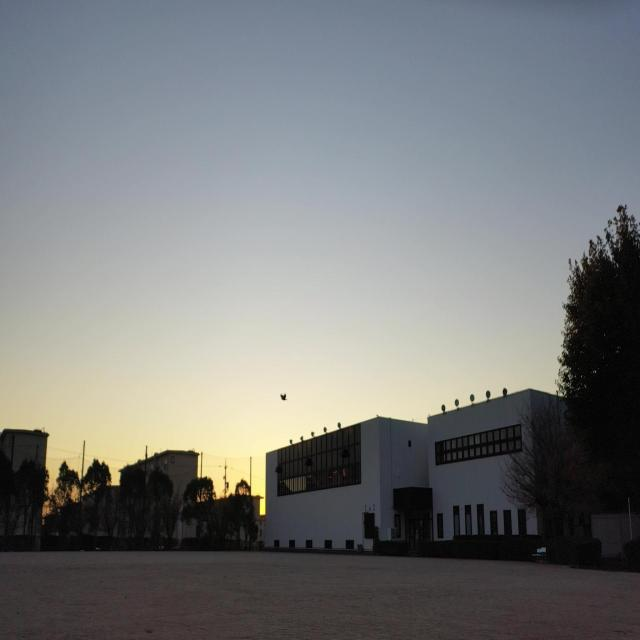Birds: (278, 392, 290, 404)
